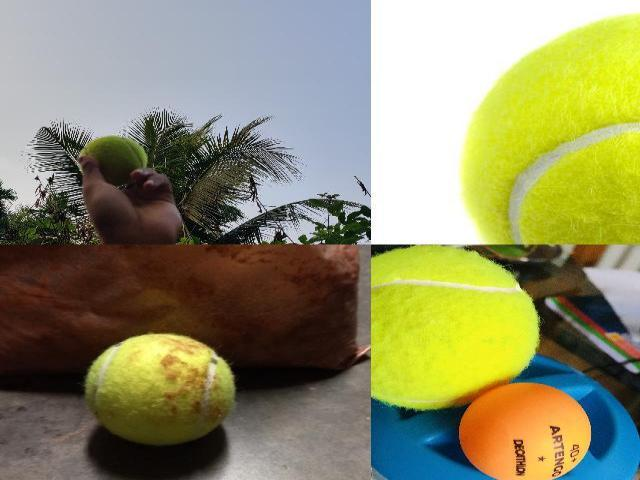tennis-ball: (459, 12, 639, 244), (371, 246, 538, 382), (82, 332, 236, 446), (77, 136, 147, 184)
